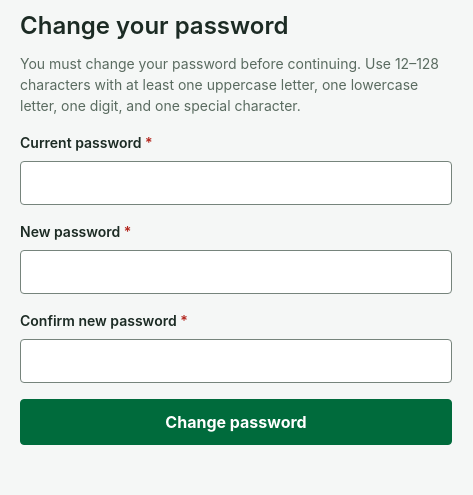
Scenario: UI-CHPWD-01: Mandatory Change Password screen › enforces the password policy client-side
This screenshot has width=473, height=495.
In the password field labelled "Current password *": (236, 183) [20,161,452,205], type "old-password"
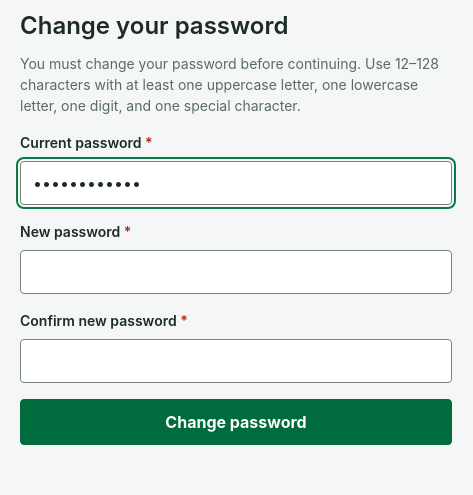
In the password field labelled "New password *": (236, 272) [20,250,452,294], type "short"
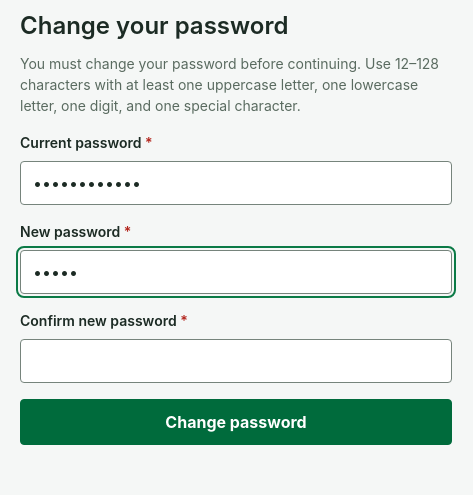
In the password field labelled "Confirm new password *": (236, 361) [20,339,452,383], type "short"
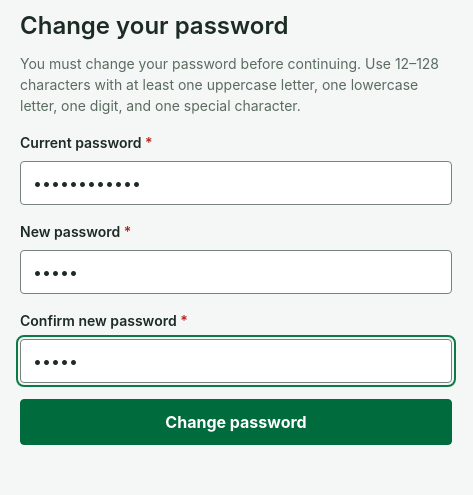
Click the button "Change password": (236, 422) [20,399,452,445]
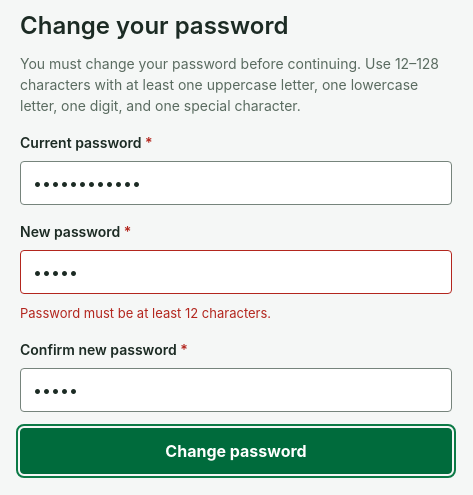
expect the text "Password must be at least 12 characters." is shown: met, box [20,305,271,321]
